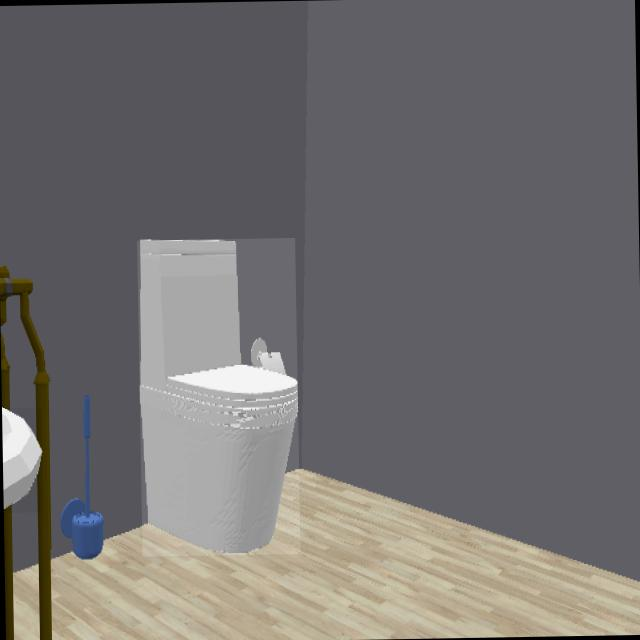bathtube: (1, 408, 42, 513)
toilet: (139, 241, 298, 554)
